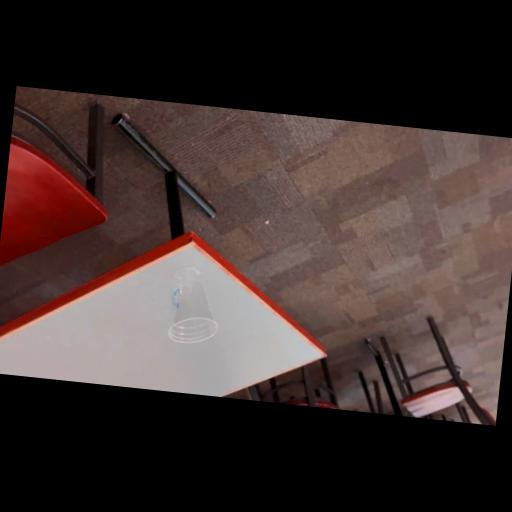lp_plastic_cup: (163, 263, 226, 349)
